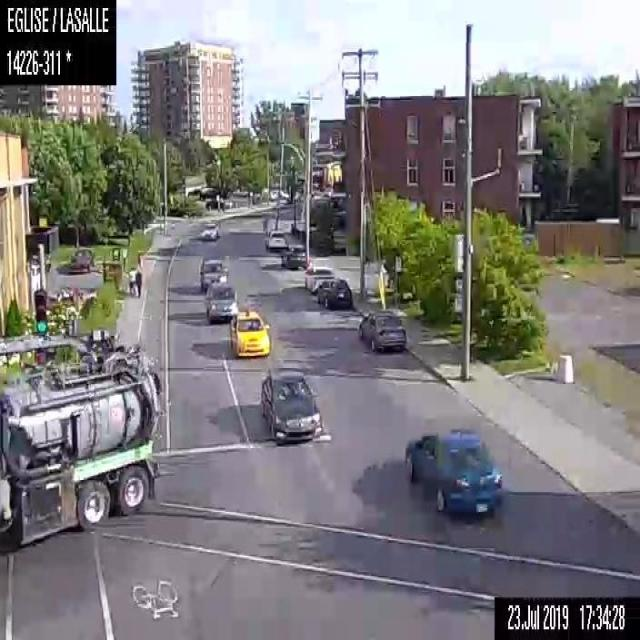pedestrian: (126, 263, 138, 296), (135, 266, 142, 298)
vehicle: (0, 328, 162, 547), (404, 425, 504, 519), (258, 365, 319, 443), (358, 306, 408, 351), (229, 308, 269, 359), (204, 280, 238, 321), (318, 278, 353, 310), (197, 255, 227, 290), (302, 262, 335, 293), (280, 240, 310, 269), (68, 246, 94, 274), (203, 192, 231, 212), (262, 228, 286, 250), (201, 221, 218, 240)
